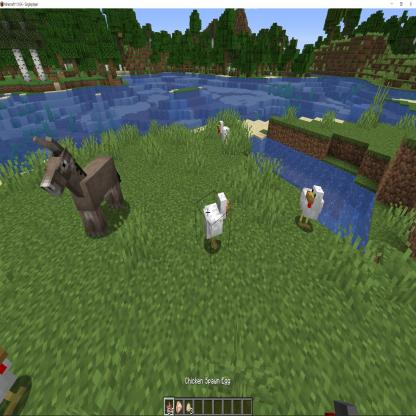minecraft-pigs: (183, 182, 228, 295)
